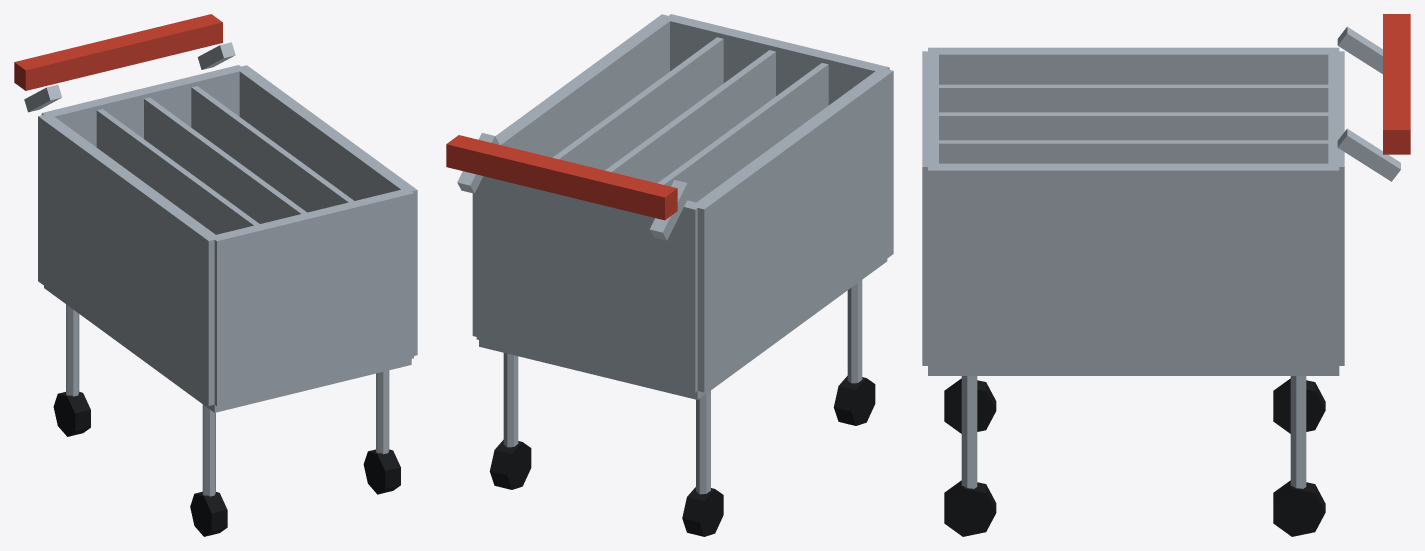
Rendered from shopping-cart-lod1.glb.
3 renders of one model, left to right at view 1: azimuth 30°, elevation 25°; view 2: azimuth 150°, elevation 25°; view 3: azimuth 270°, elevation 25°, orthographic. The views are drawn at different scales.
Parts seen in each view (by area): view 1: shopping-cart; view 2: shopping-cart; view 3: shopping-cart.
Part boxes in pixels (box(x1,y1,x2,y2)): shopping-cart: box(14, 14, 417, 536); shopping-cart: box(446, 14, 893, 536); shopping-cart: box(922, 14, 1410, 536).
Size of the model in its own units: 0.53 by 0.8237 by 0.89.
